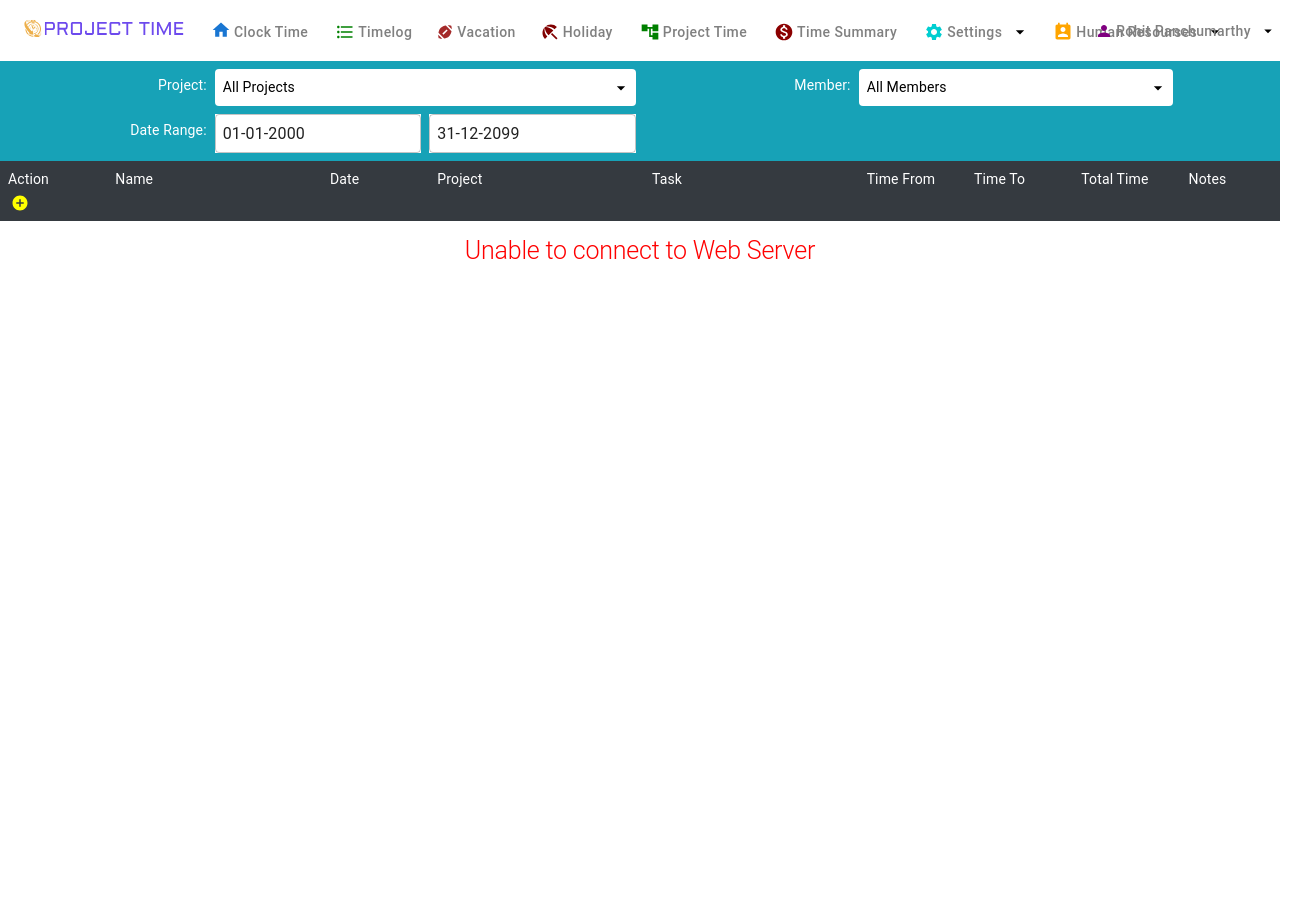
Test: 1. click on the create button and verify the create page has popped up without any data and save and goto list buttons are only available. Submit the form witho
The image size is (1292, 900).
Click the button with test id "Action" at (40, 203), box [8,190,72,216]
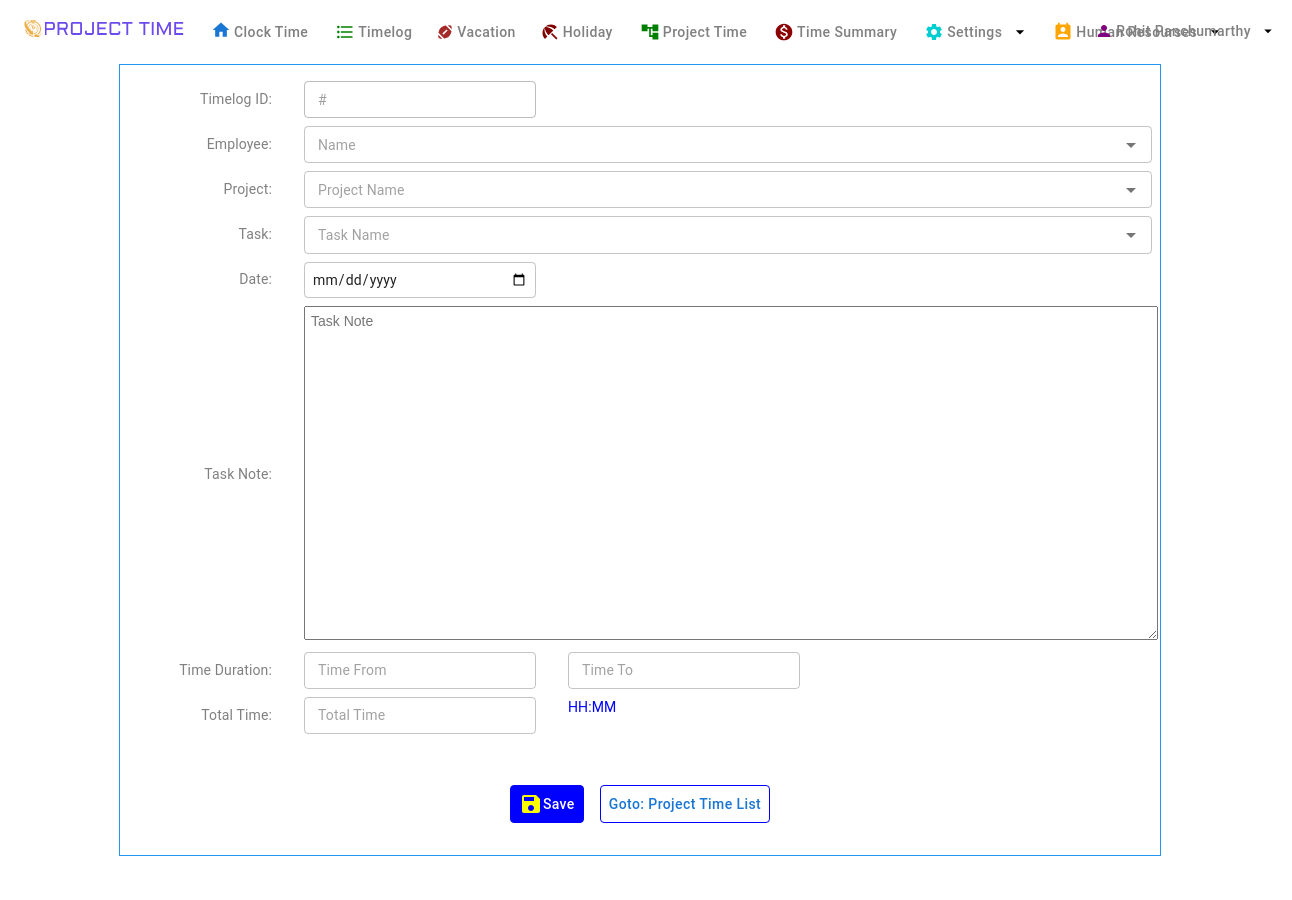
Expected: the button with test id "Save" is shown
Click the button with test id "Save" at (547, 804), box [510,785,584,823]
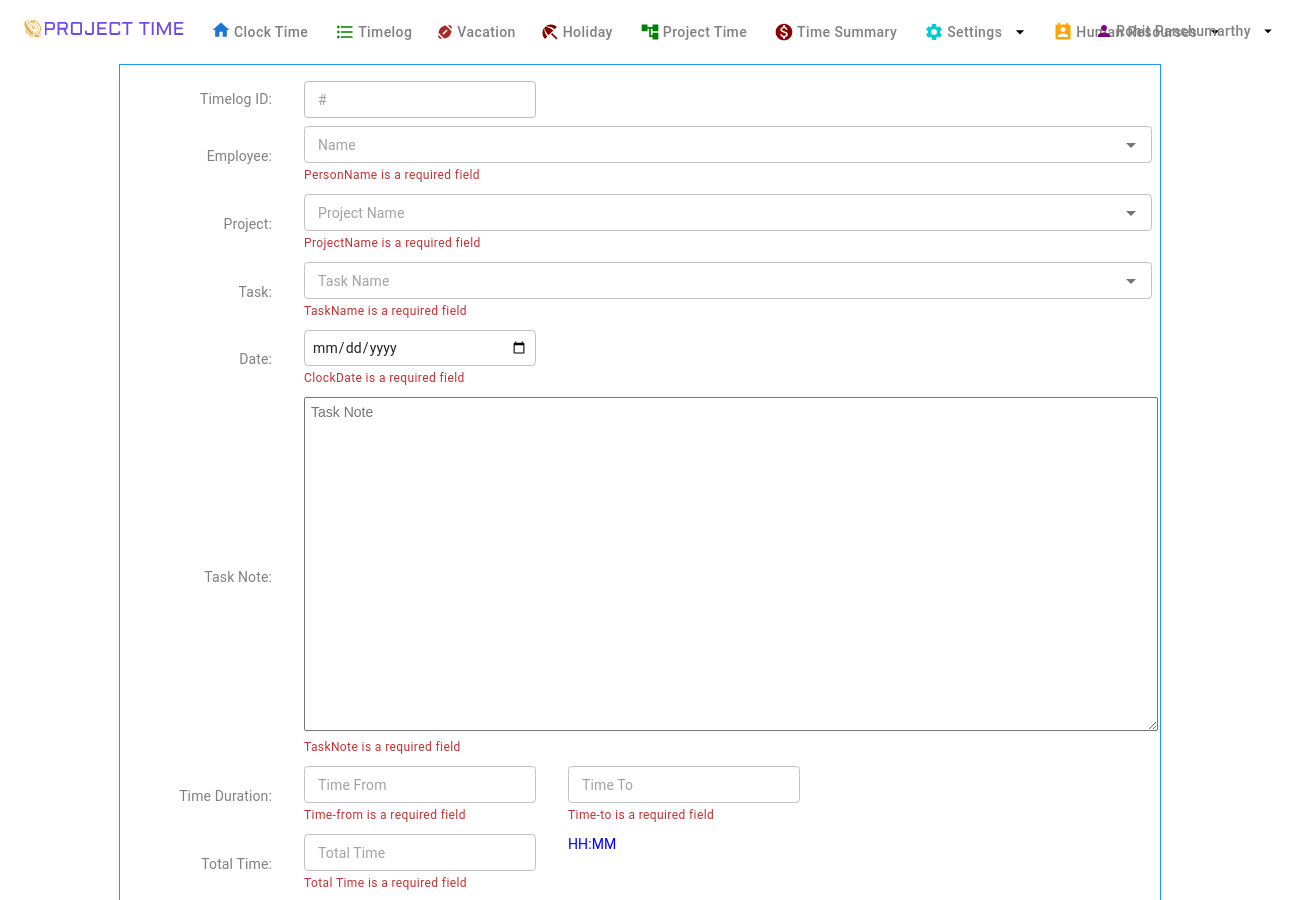
Expected: the text "PersonName is a required field" is shown 8 times
